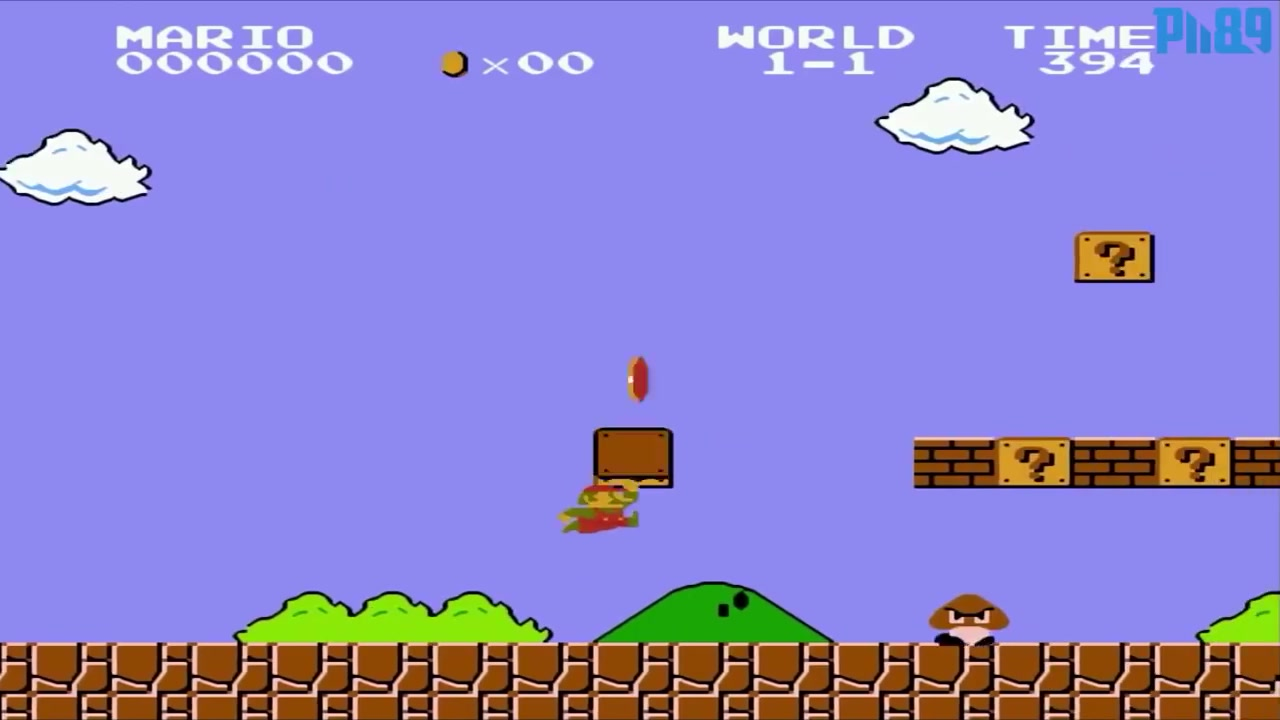mario: (559, 473, 644, 539)
